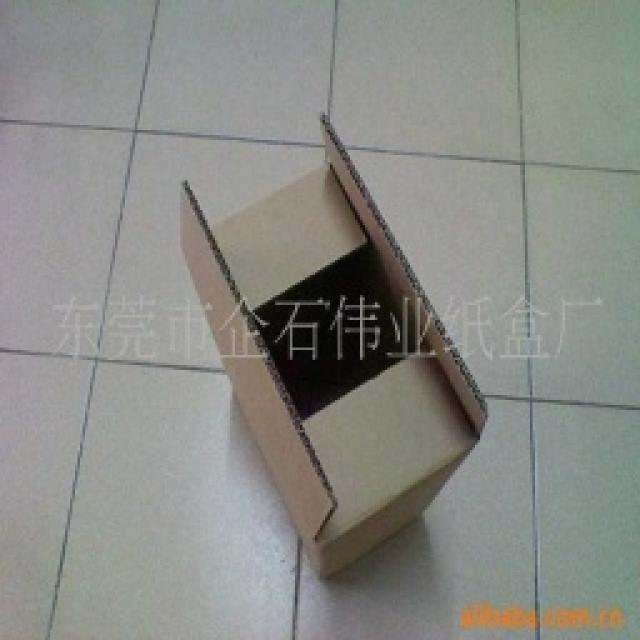box: (172, 148, 488, 588)
